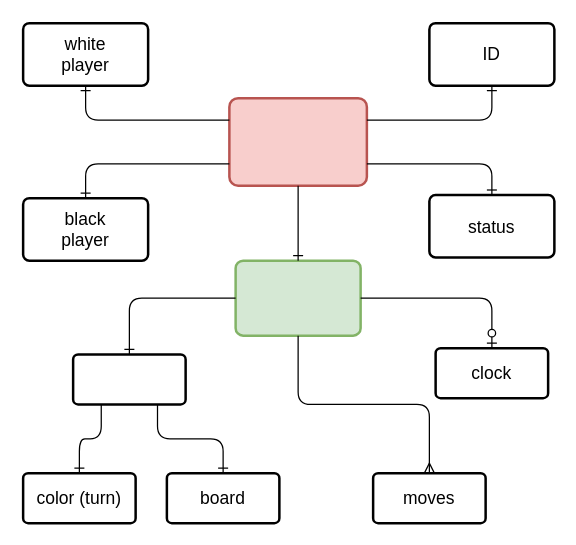
The diagram is 576 pixels wide and 545 high, and some of its shapes have lost their labels. The box of each missing label's shape, as (x1, y1, x2, y2) in pixels:
Game: (228, 96, 368, 186)
scalachess Game: (234, 259, 361, 336)
situation: (71, 352, 186, 405)
